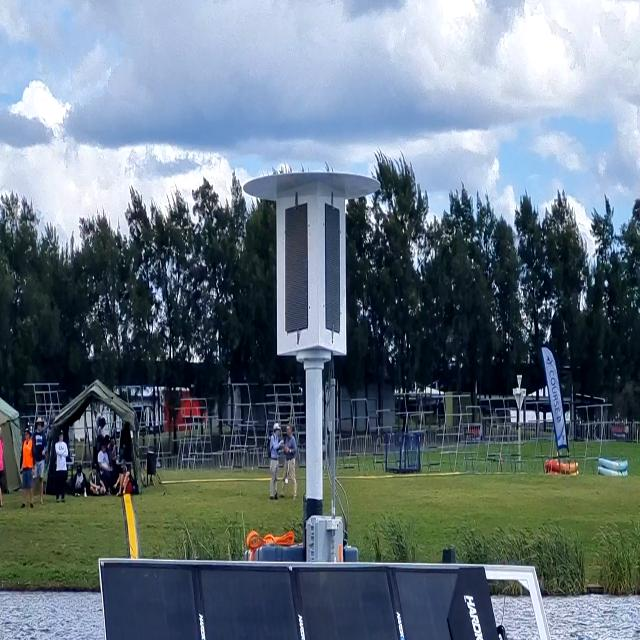led: (280, 196, 315, 342), (321, 190, 345, 350)
